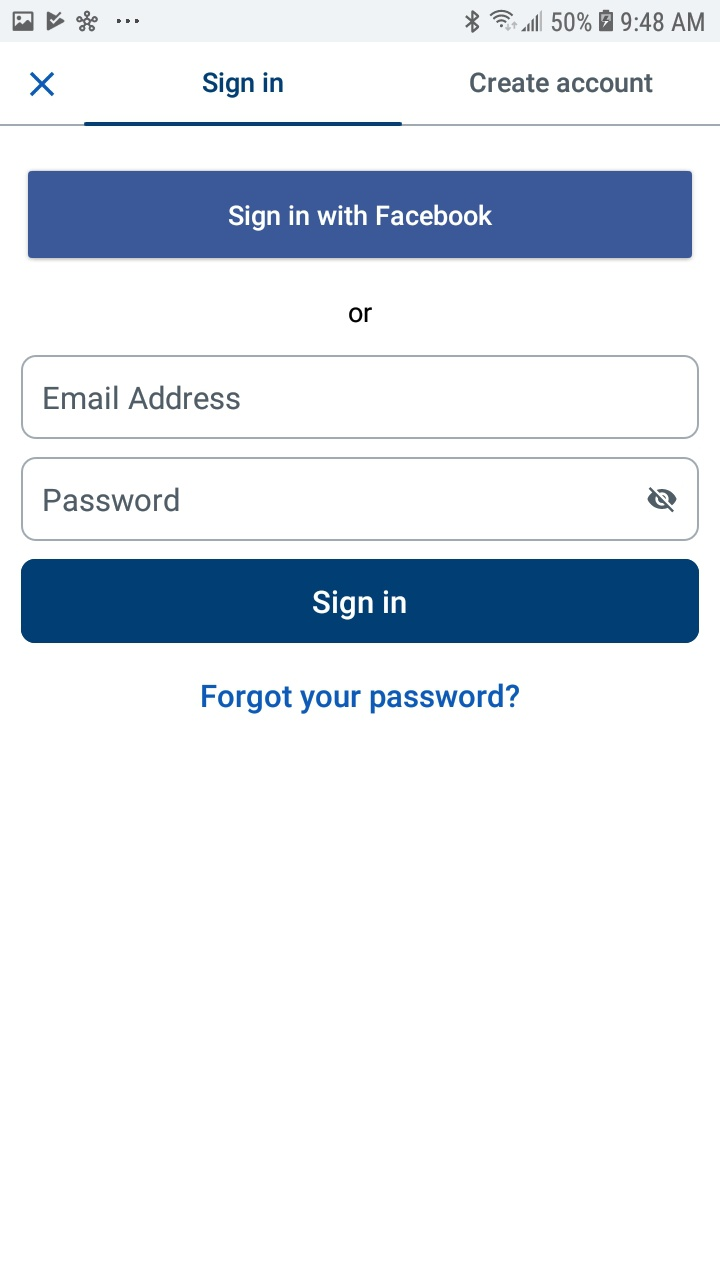EditText: (22, 356, 699, 440), (22, 458, 699, 542)
Icon: (647, 486, 678, 513), (30, 72, 56, 98)
Text: (202, 683, 520, 715), (45, 386, 241, 411), (469, 74, 653, 94), (45, 488, 180, 513), (203, 72, 284, 100), (349, 306, 373, 324)
TextButton: (28, 171, 692, 259), (22, 559, 700, 644)
UpperTaskBar: (1, 1, 720, 43)
